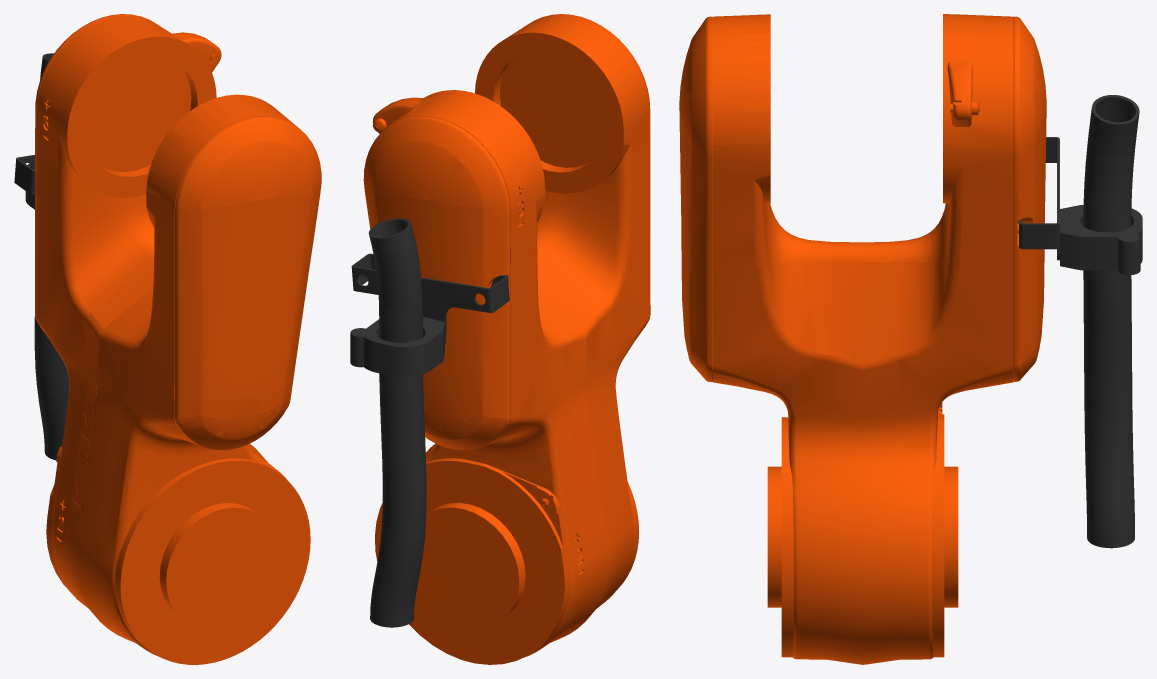
3 renders of one model, left to right at view 1: azimuth 30°, elevation 25°; view 2: azimuth 150°, elevation 25°; view 3: azimuth 270°, elevation 25°, orthographic. The views are drawn at different scales.
Visible parts, largest first — view 1: link_2; view 2: link_2; view 3: link_2.
Boxes of the visible parts, x1,y1,x2,y2 form: link_2: (14, 14, 321, 664); link_2: (350, 14, 650, 664); link_2: (679, 14, 1142, 664).
Size of the model in its own units: 0.181 by 0.3279 by 0.4922.
